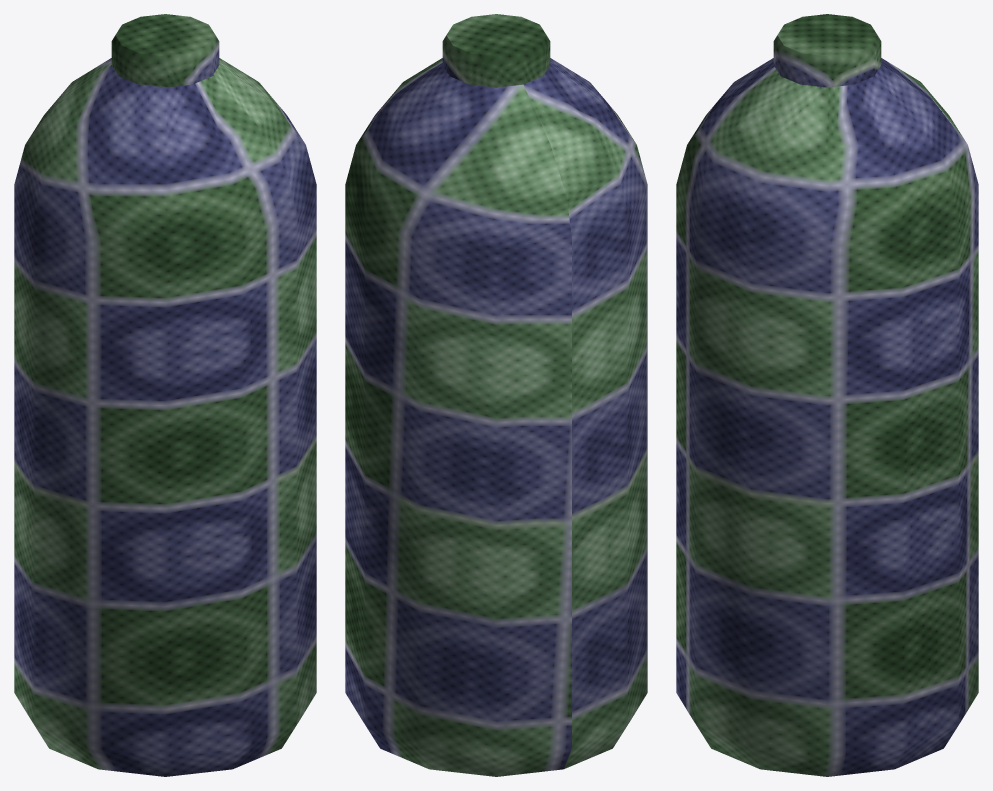
File: Product_Plastic_Bottle.fbx
3 views of the same model, side by side, from view 1: azimuth 30°, elevation 25°; view 2: azimuth 150°, elevation 25°; view 3: azimuth 270°, elevation 25° (orthographic).
Visible parts, largest first — view 1: Product_Plastic_Bottle; view 2: Product_Plastic_Bottle; view 3: Product_Plastic_Bottle.
Part boxes in pixels (box(x1,y1,x2,y2)): Product_Plastic_Bottle: box(14, 14, 316, 776); Product_Plastic_Bottle: box(345, 14, 647, 776); Product_Plastic_Bottle: box(676, 14, 978, 776).
Bounding box in the file's own units: 20.25 × 51.41 × 20.25.
1 material, 1 textured.
